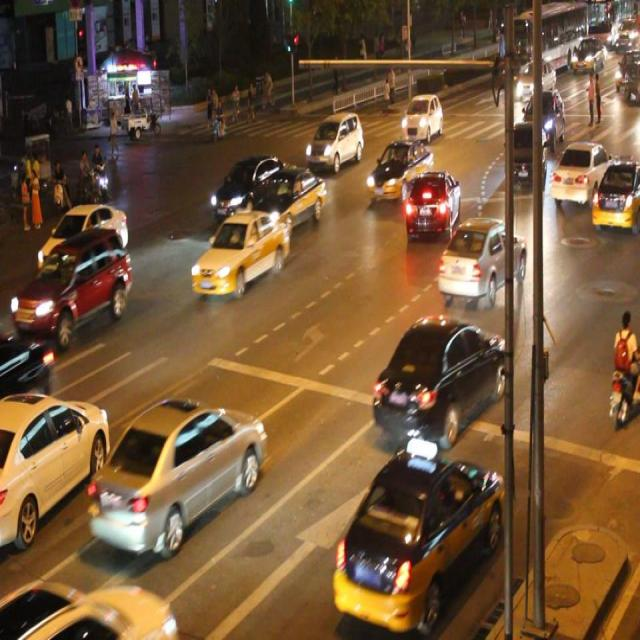car: (331, 454, 502, 629), (90, 396, 266, 552), (372, 314, 505, 442), (0, 390, 110, 524), (15, 230, 131, 341), (1, 577, 179, 640), (192, 210, 290, 296), (436, 216, 525, 303), (39, 204, 130, 276), (212, 156, 288, 226), (251, 166, 326, 232), (365, 137, 433, 200), (403, 167, 458, 241), (548, 139, 610, 201), (590, 160, 640, 229), (306, 113, 363, 171), (503, 120, 544, 184), (400, 92, 443, 140)
